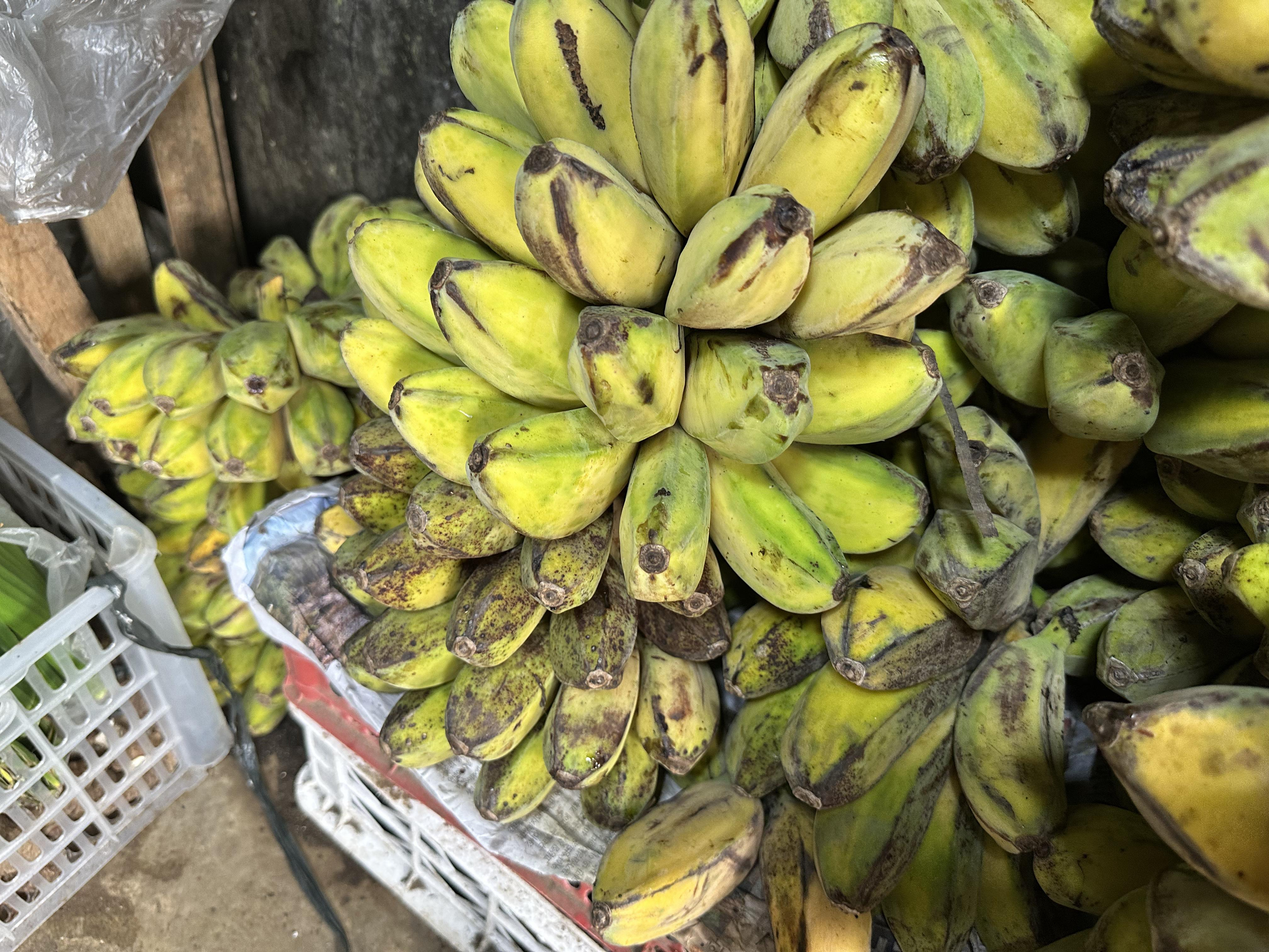underripe: (340, 218, 940, 614), (416, 0, 968, 338), (314, 418, 729, 828), (724, 566, 1065, 952), (740, 0, 1140, 255), (946, 228, 1269, 483), (53, 260, 361, 483), (1037, 454, 1269, 701)
